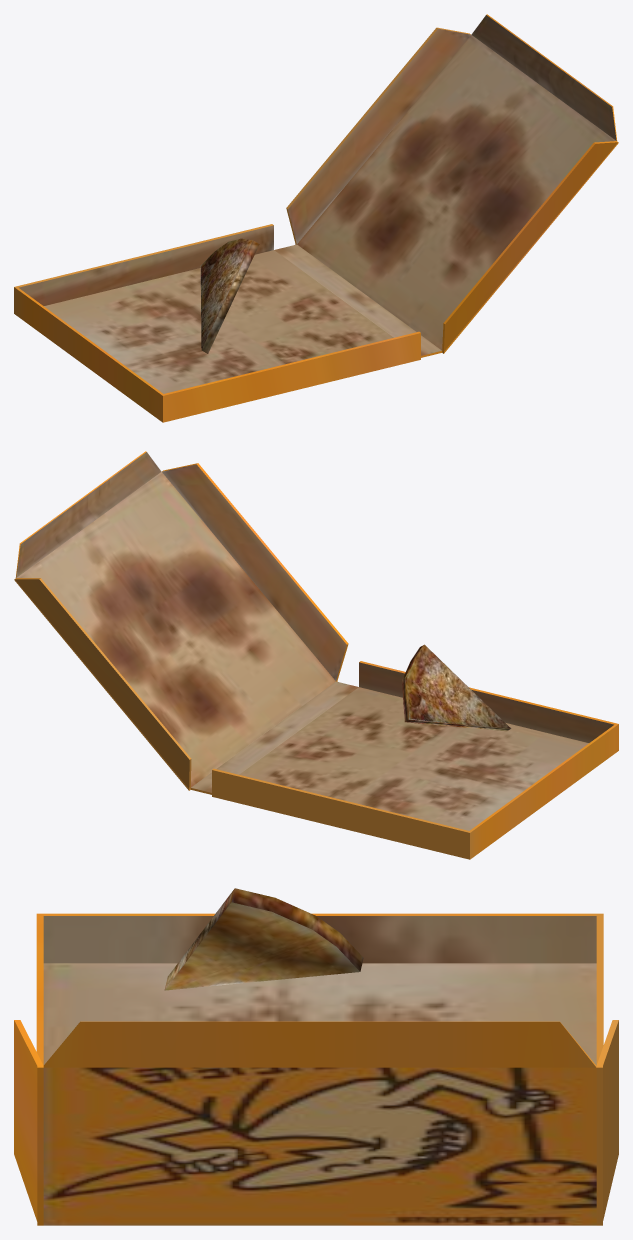
File: open_pizza_box.FBX
3 views of the same model, one above another, from view 1: azimuth 30°, elevation 25°; view 2: azimuth 150°, elevation 25°; view 3: azimuth 270°, elevation 25° (orthographic). The views are drawn at different scales.
Visible parts, largest first — view 1: open_pizza_box, pizza_slice; view 2: open_pizza_box, pizza_slice; view 3: open_pizza_box, pizza_slice.
Boxes of the visible parts, x1,y1,x2,y2 form: open_pizza_box: (14,14,618,422); pizza_slice: (200,238,259,353); open_pizza_box: (14,451,618,859); pizza_slice: (402,644,511,731); open_pizza_box: (14,913,618,1225); pizza_slice: (164,888,363,990).
Size of the model in its own units: 67.24 by 27.17 by 40.08.
